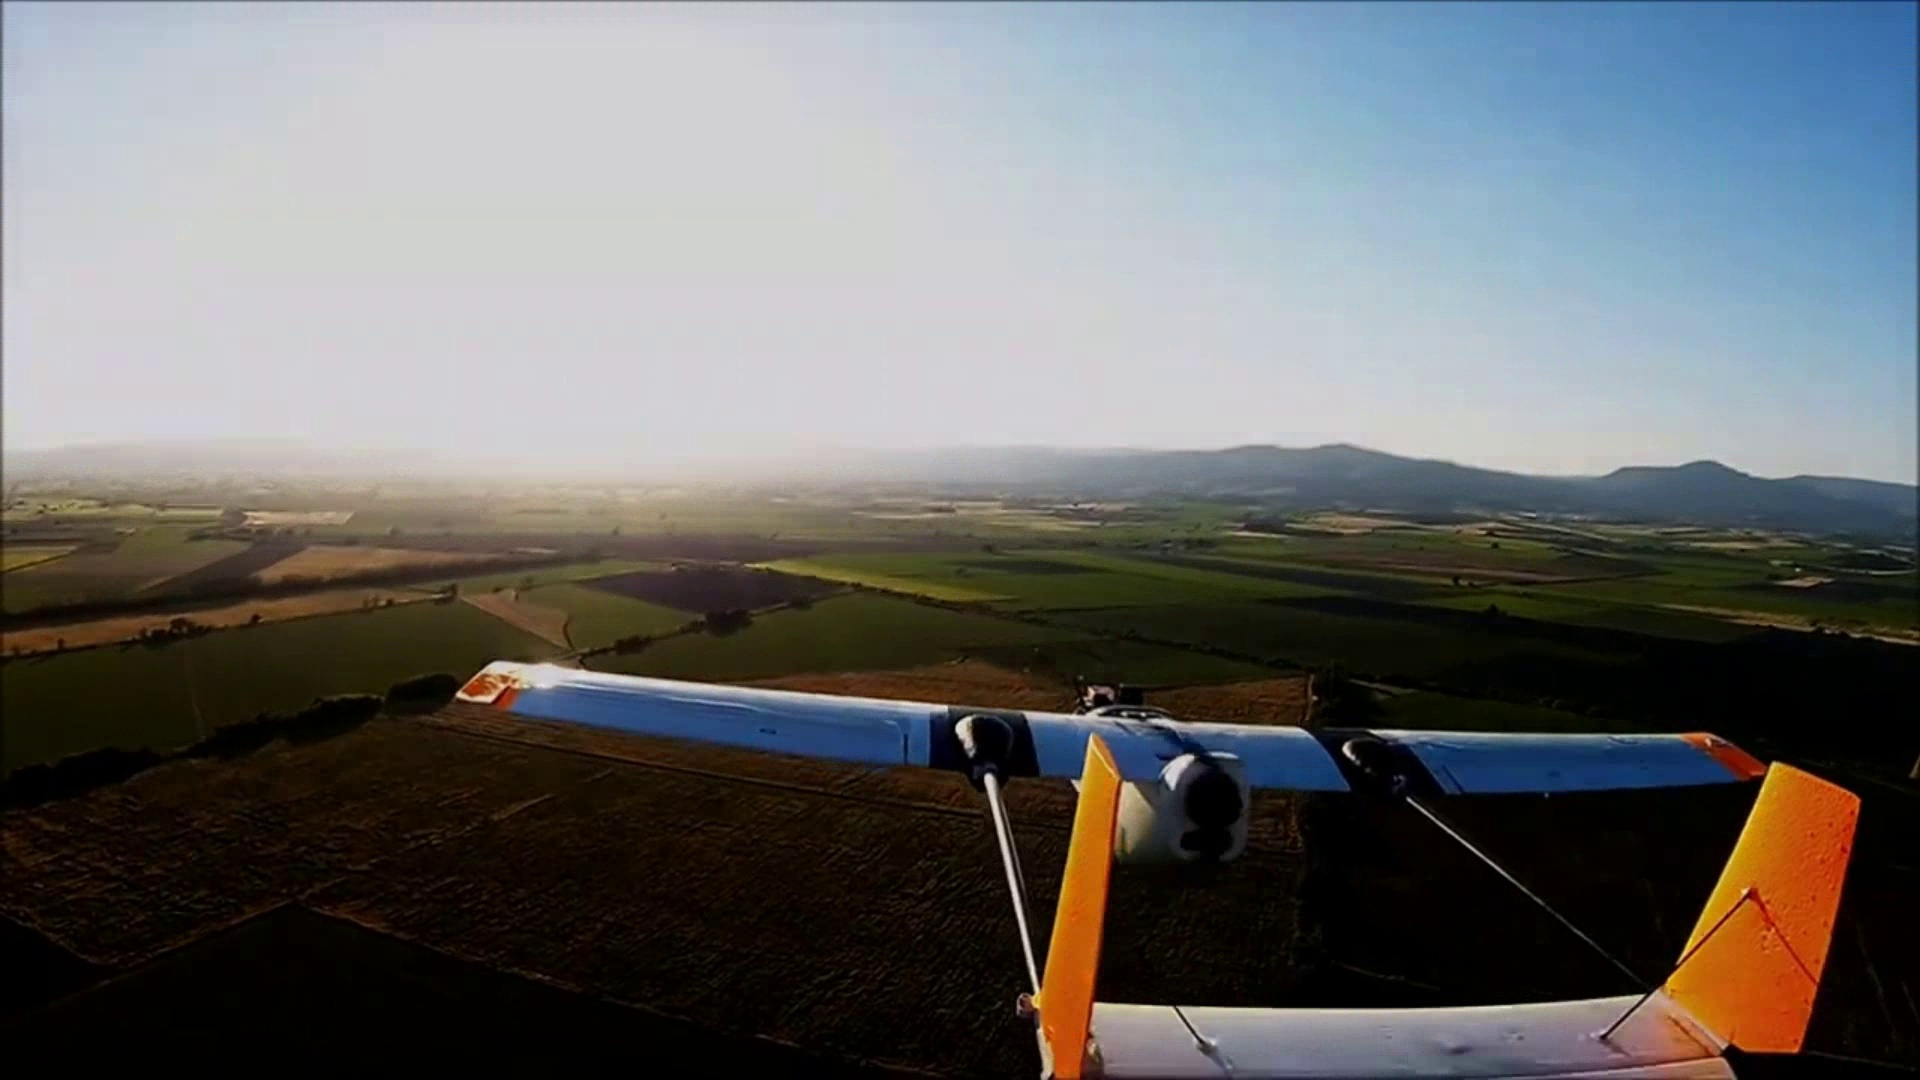airplane: (440, 655, 1913, 1069)
